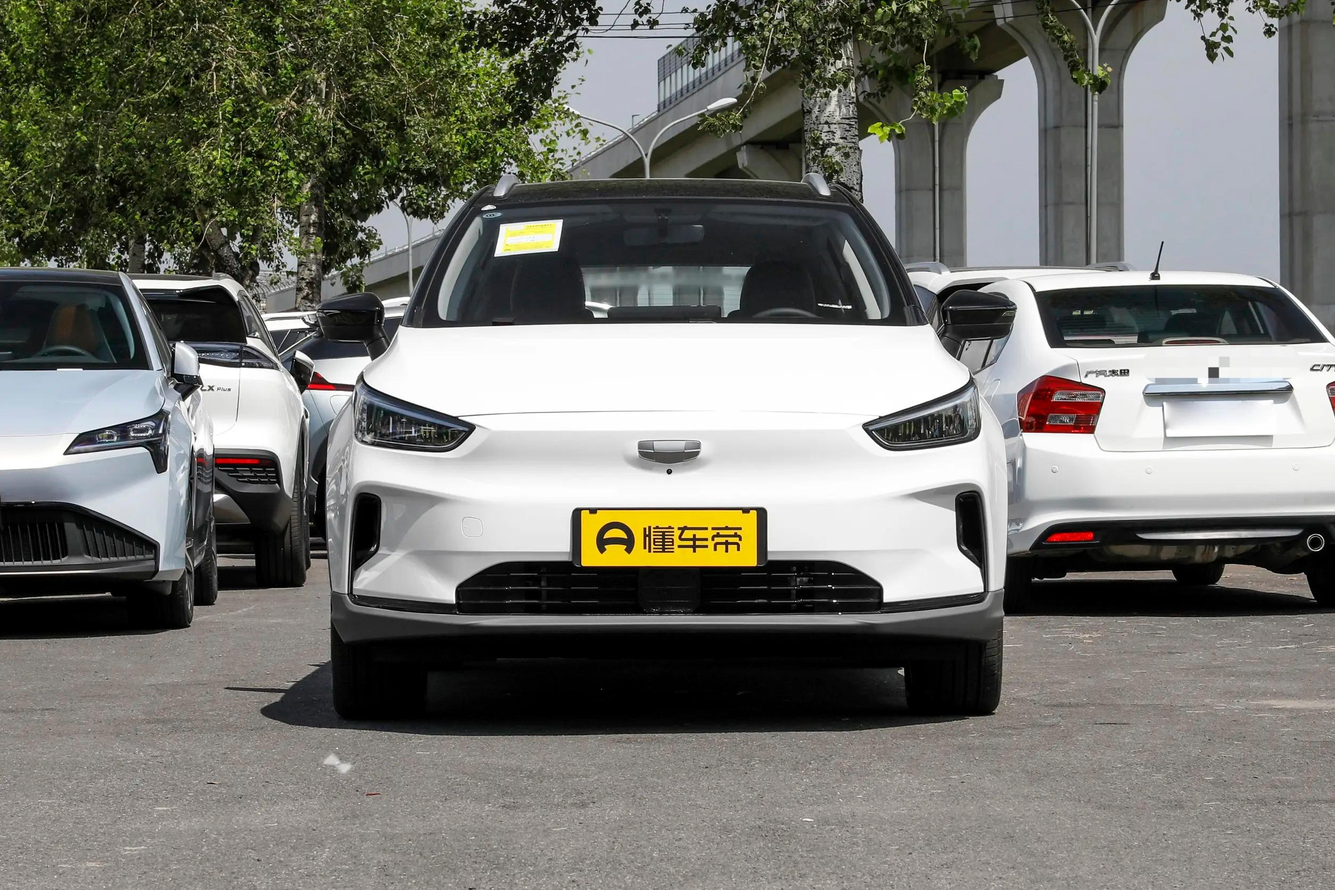GEOMETRY: (638, 441, 700, 463)
